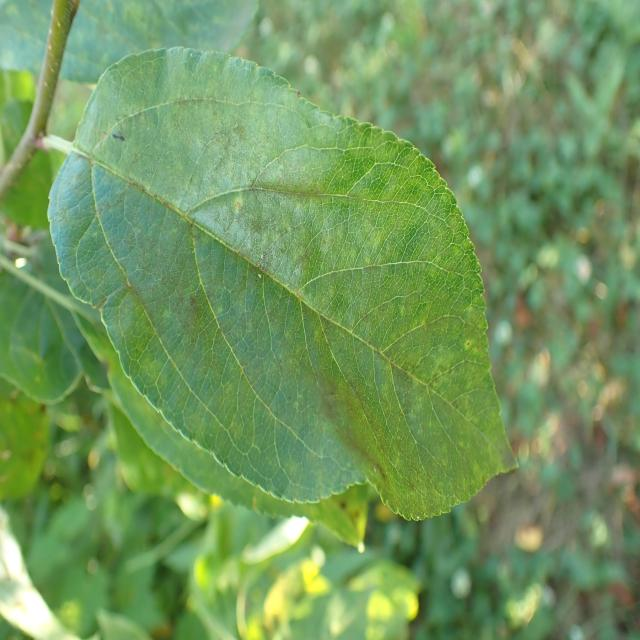scab: (70, 89, 490, 496)
